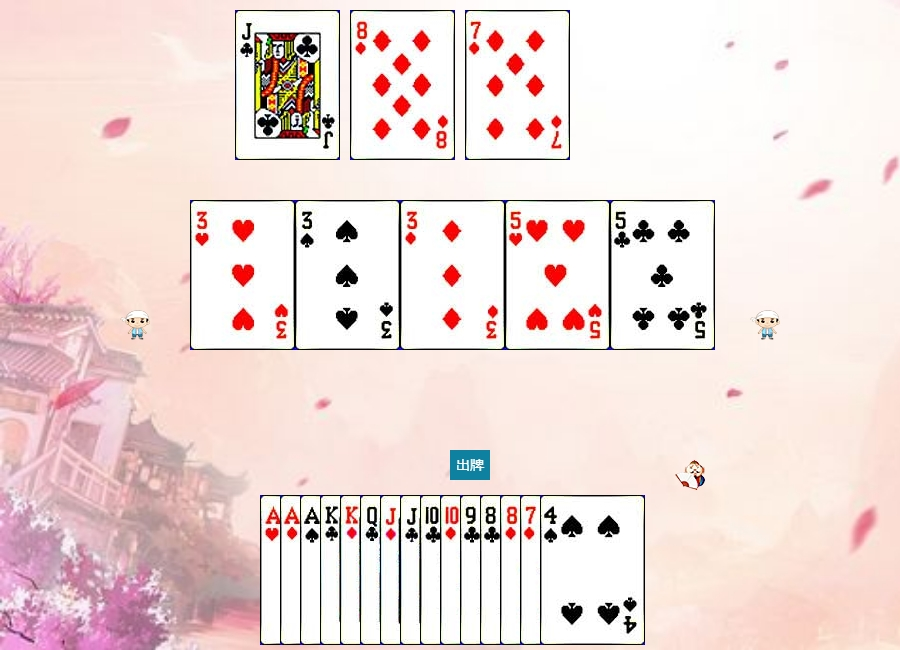10~1: (440, 495, 545, 645)
10~2: (420, 495, 525, 645)
11~1: (380, 495, 485, 645)
11~2: (235, 10, 340, 160), (400, 495, 505, 645)
12~2: (360, 495, 465, 645)
13~1: (340, 495, 445, 645)
13~2: (320, 495, 425, 645)
14~1: (280, 495, 385, 645)
14~3: (260, 495, 365, 645)
14~4: (300, 495, 405, 645)
3~1: (400, 200, 505, 350)
3~3: (190, 200, 295, 350)
3~4: (295, 200, 400, 350)
4~4: (540, 495, 645, 645)
5~2: (610, 200, 715, 350)
5~3: (505, 200, 610, 350)
7~1: (465, 10, 570, 160), (520, 495, 625, 645)
8~1: (350, 10, 455, 160), (500, 495, 605, 645)
8~2: (480, 495, 585, 645)
9~2: (460, 495, 565, 645)
